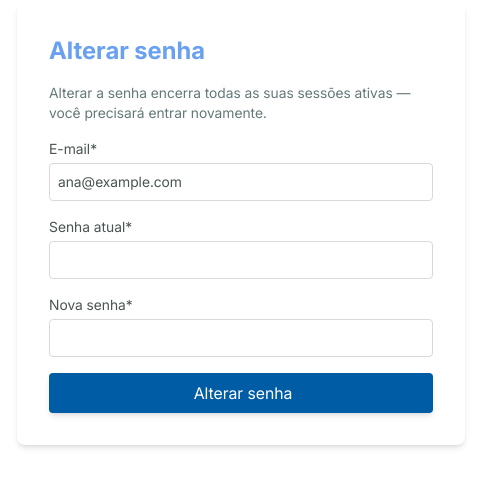
password journeys › changes the current password
Type "Antiga1!" into the password field labelled "Senha atual*" at (241, 260), box [49,241,433,279]
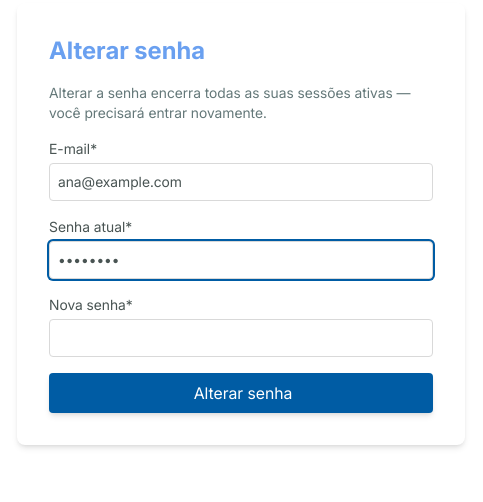
Type "Nova1!" into the password field labelled "Nova senha*" at (241, 338), box [49,319,433,357]
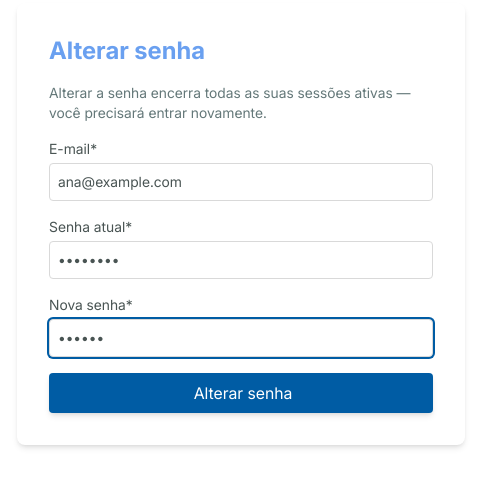
Click the button "Alterar senha" at (241, 393), box [49,373,433,413]
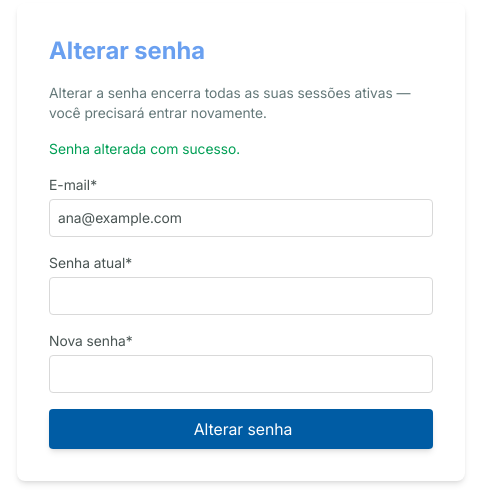
Expected: the text "Senha alterada com sucesso." is shown, [49,140,240,157]
